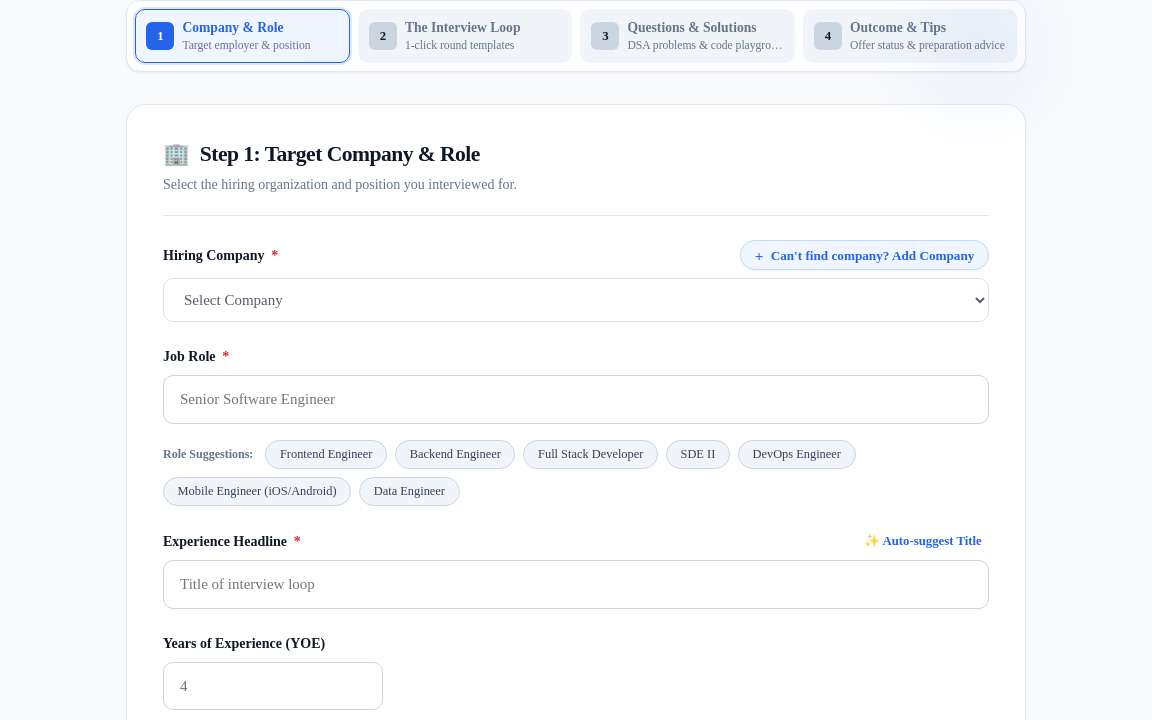
Test case: Experience Stepper Wizard & 1-Click Templates › populates Job Role when role suggestion pill is clicked
Click the button "Backend Engineer" at (455,454), box [395,440,516,469]
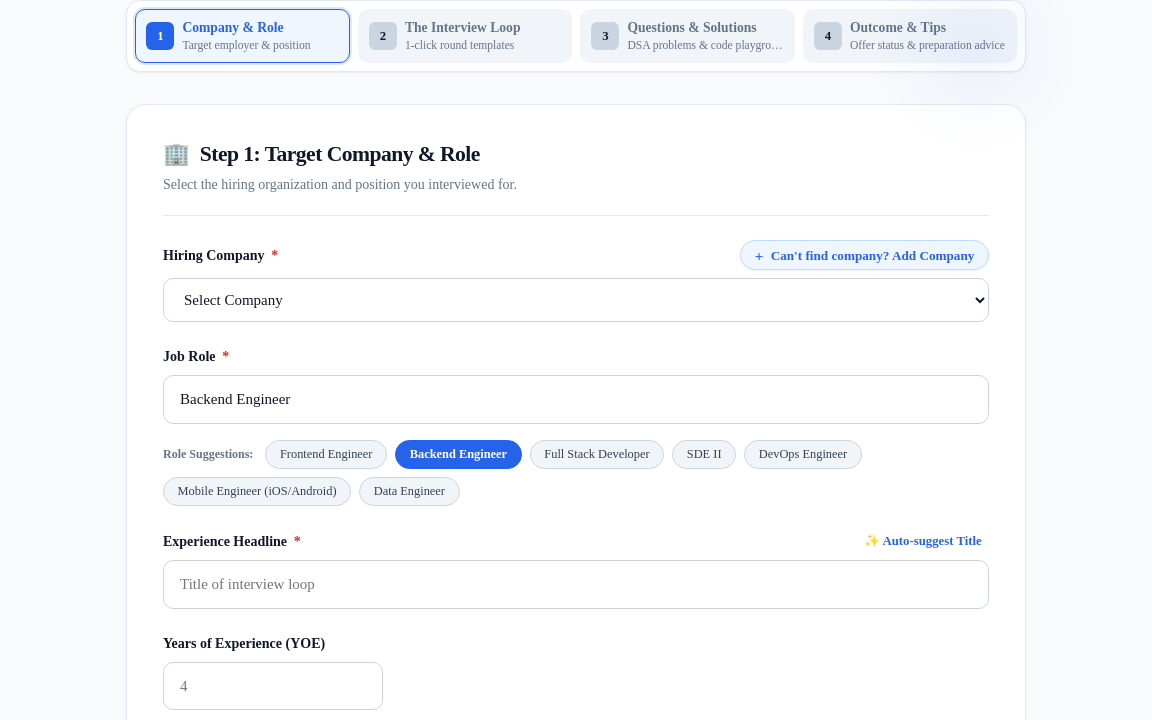
Expected: the field labelled "Job Role *" holds "Backend Engineer", [163,375,989,424]
